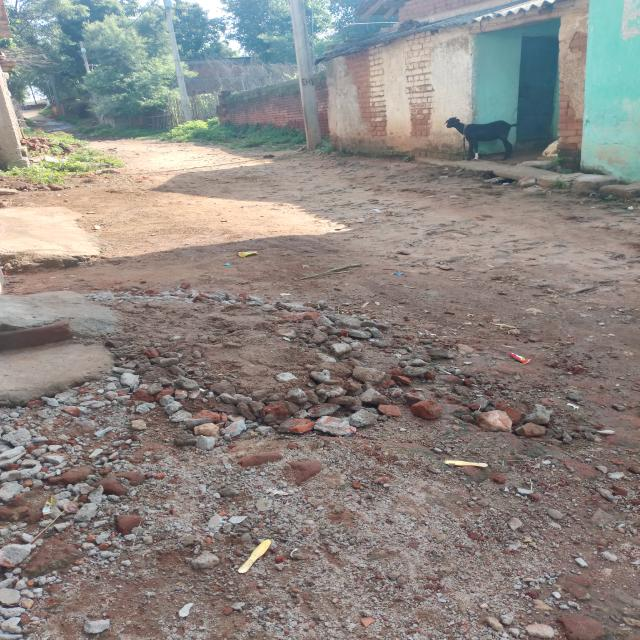potholes: (117, 285, 582, 447)
